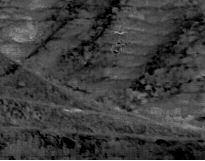Target: (114, 41, 128, 51)
